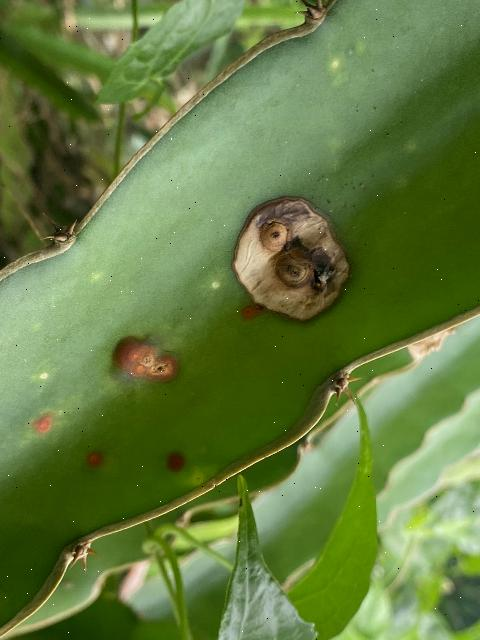stemcanker: (228, 185, 352, 325), (108, 329, 185, 390)
